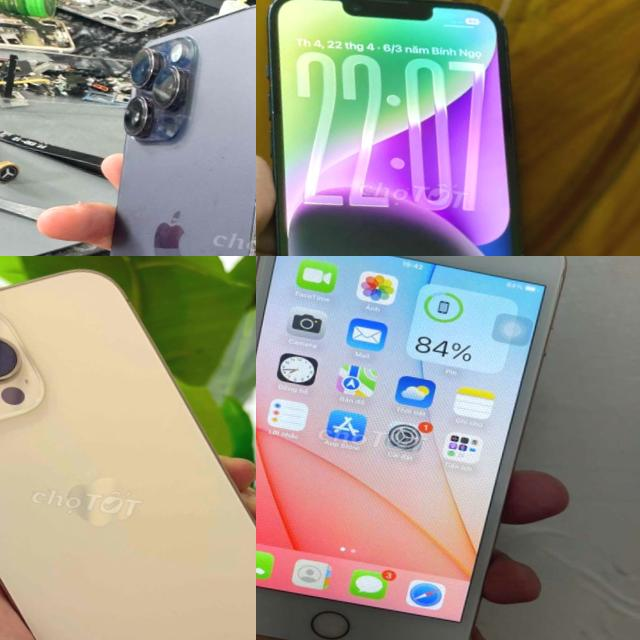scratch: (236, 75, 256, 256), (150, 101, 174, 128), (139, 79, 156, 92)
